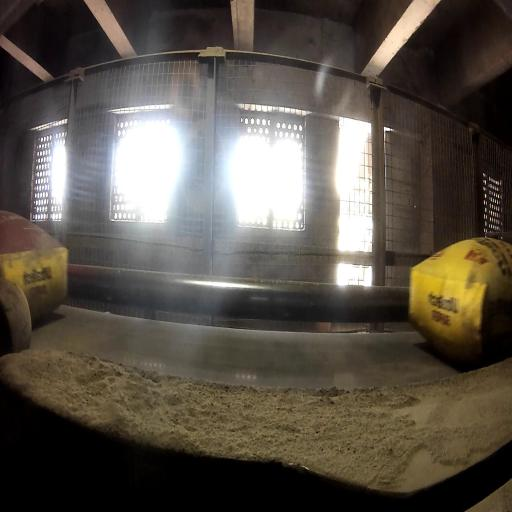c-belt-sack-count: (408, 238, 512, 364)
